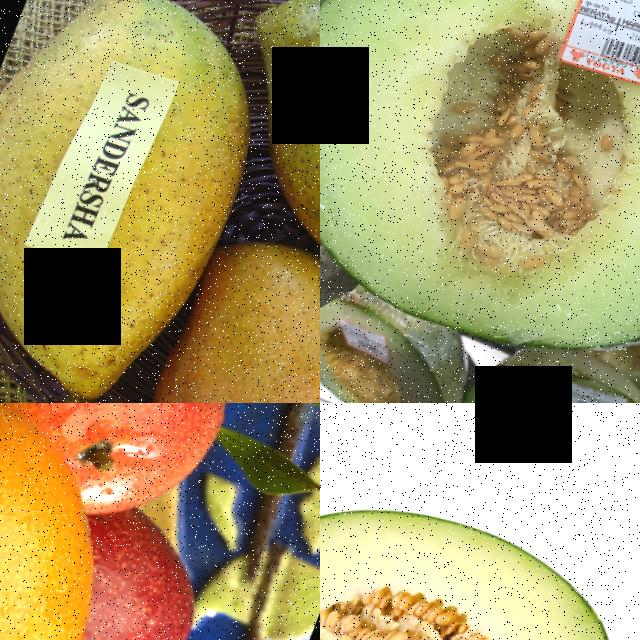mango: (0, 0, 297, 403), (84, 214, 320, 403), (207, 0, 320, 381), (0, 403, 288, 523), (0, 403, 122, 640)
melon: (320, 0, 640, 374), (320, 429, 640, 640)
